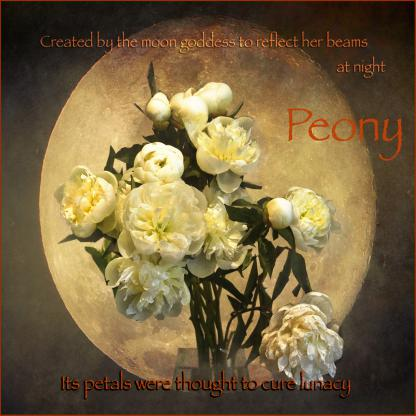vase: (169, 346, 252, 394)
